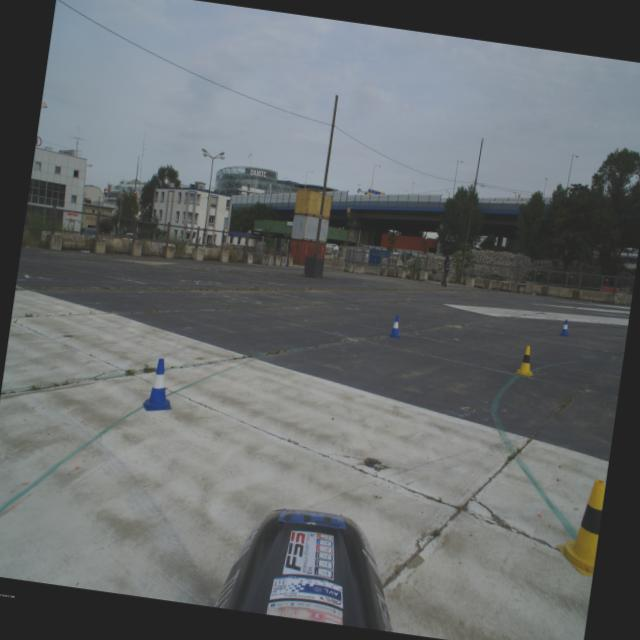blue_cone: (142, 357, 178, 414), (388, 314, 404, 338), (560, 318, 572, 336)
yellow_cone: (554, 474, 606, 576), (515, 344, 538, 378)
